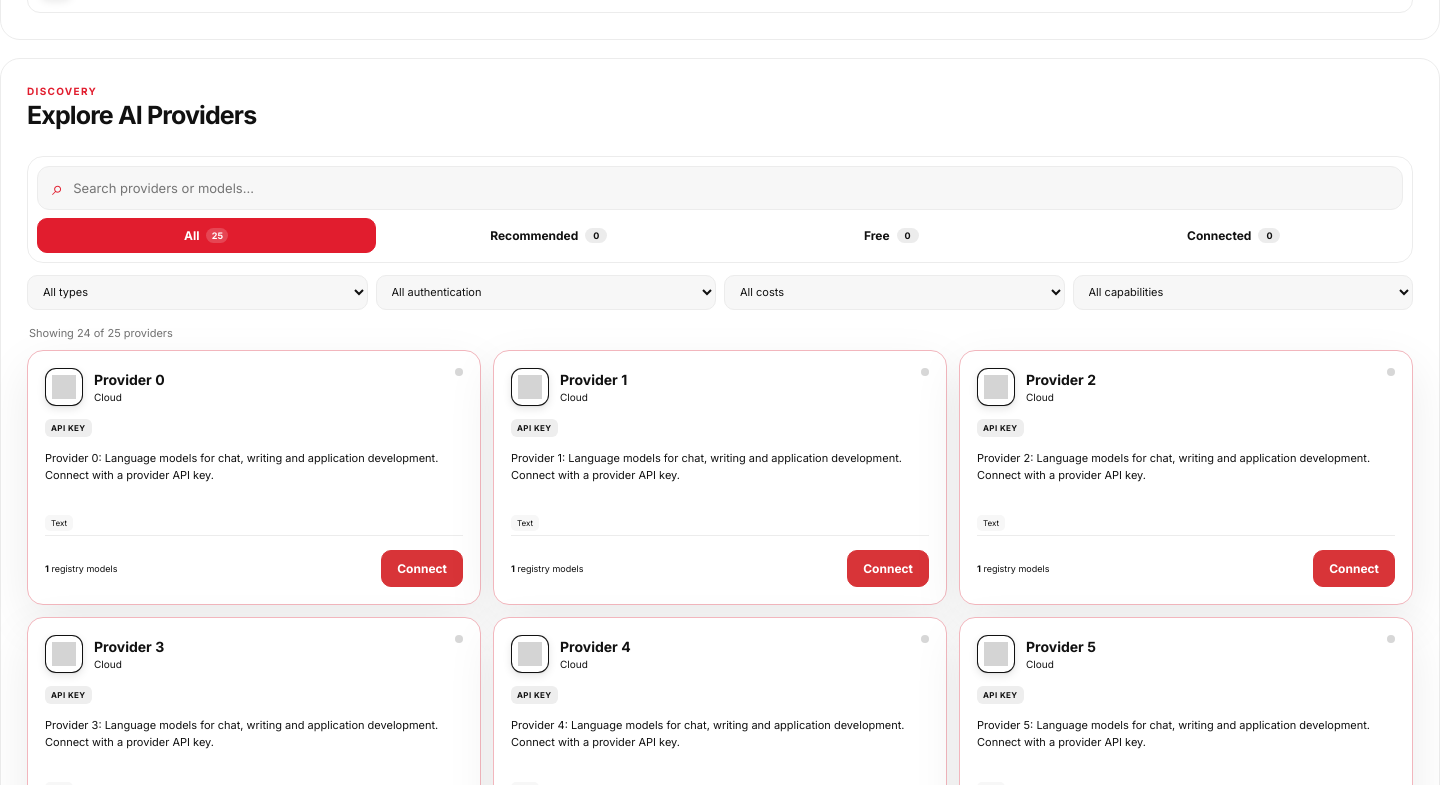
Test: starts reading models when the provider opens and reuses them across tabs
(page scrolled)
Click the button "P0 Provider 0 Cloud". click: (64, 387)
box: [45, 368, 463, 406]
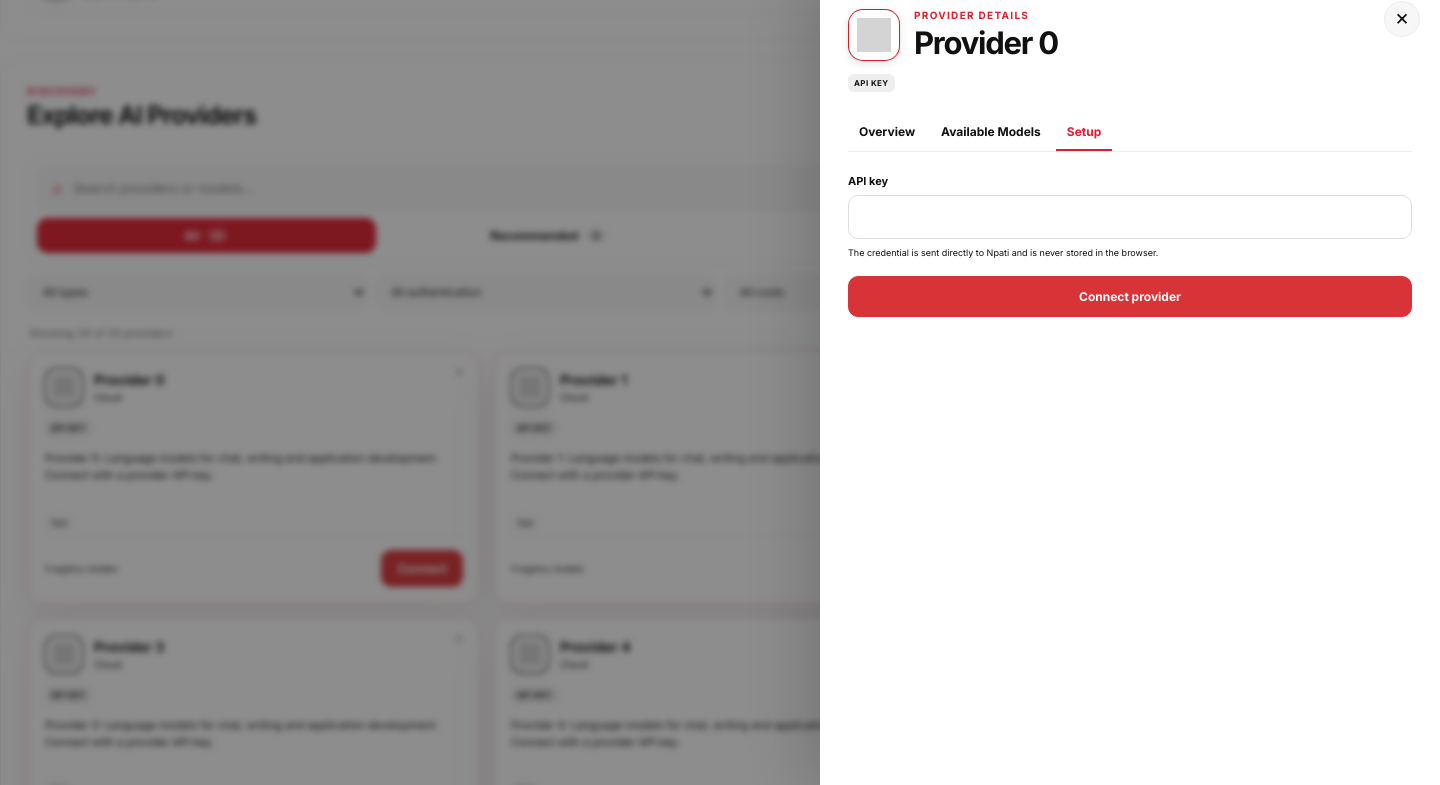
Click the button "Available Models". click: (991, 132)
box: [930, 114, 1052, 151]
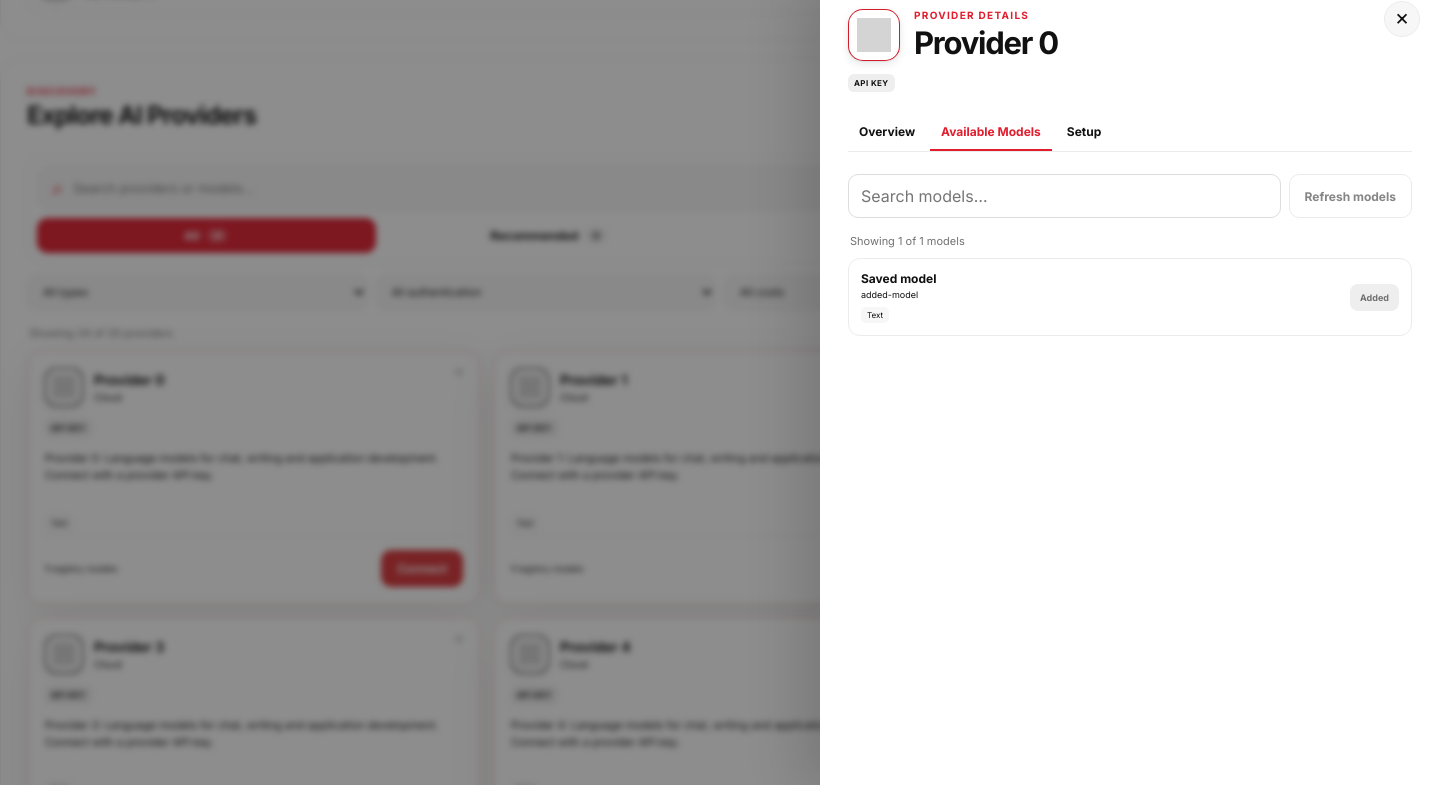
Result: the element with class "model-row" shows "Saved model" at [861, 271, 936, 286]
Click the button "Overview". click: (887, 132)
box: [848, 114, 926, 151]
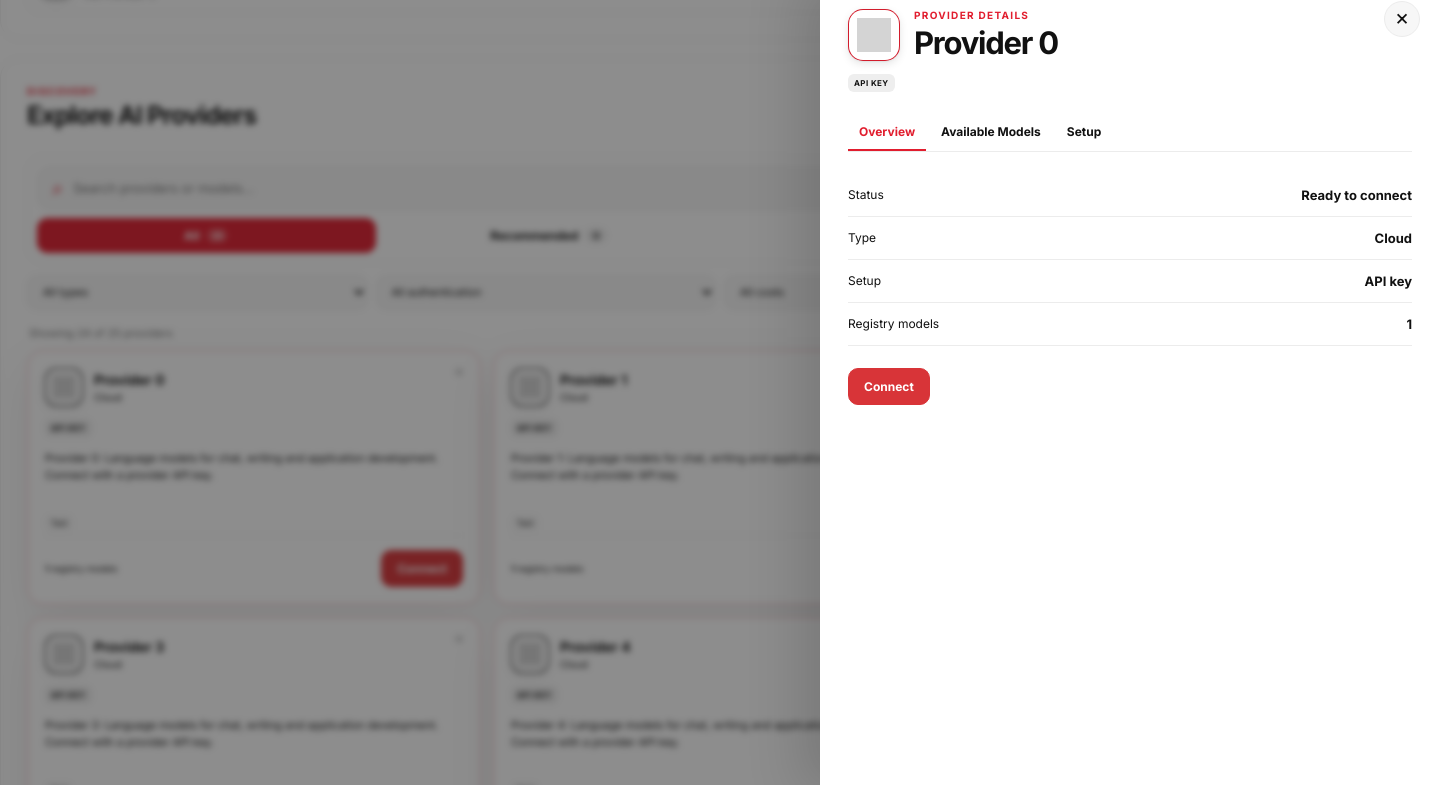
Click the button "Available Models". click: (991, 132)
box: [930, 114, 1052, 151]
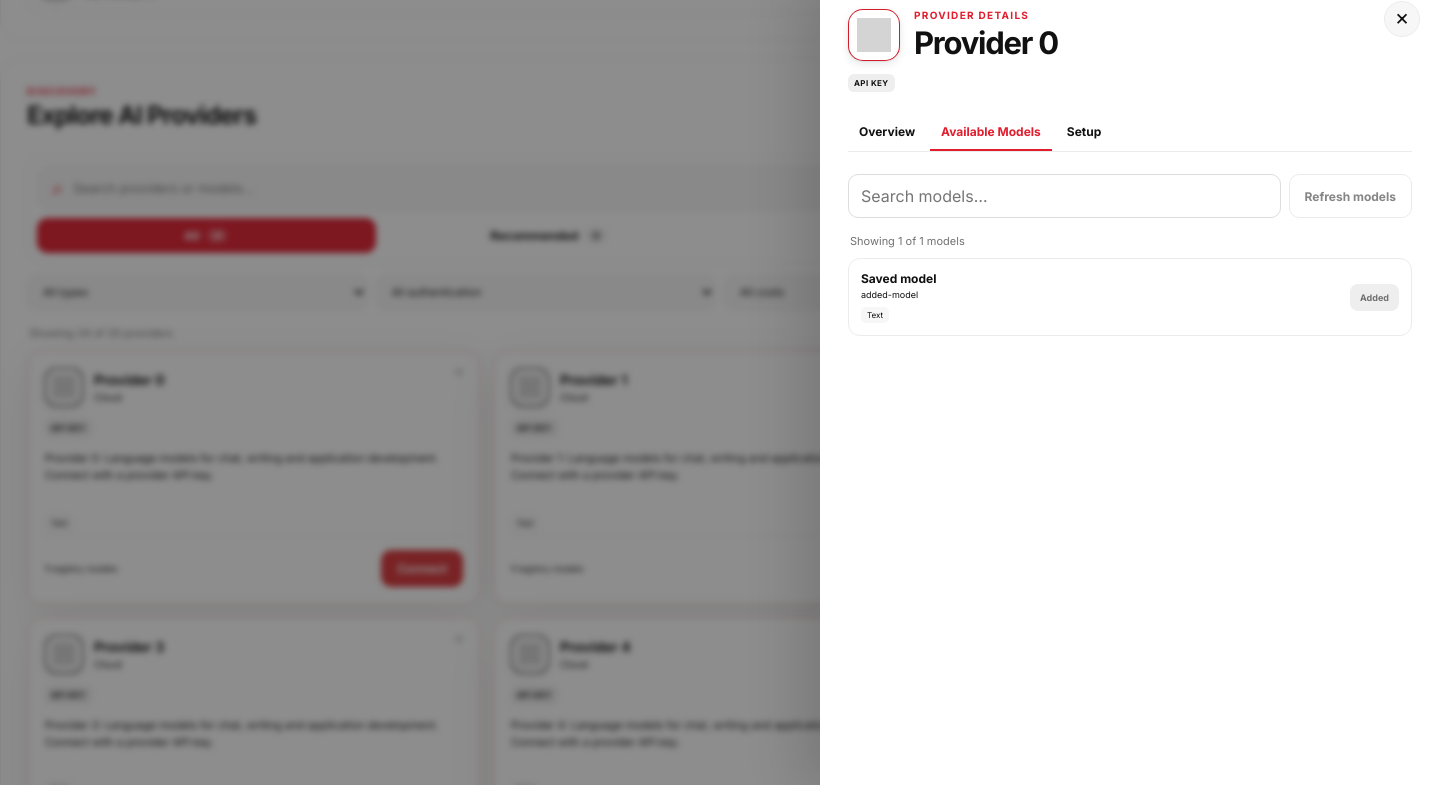
Result: the element with class "model-row" shows "Saved model" at [861, 271, 936, 286]
